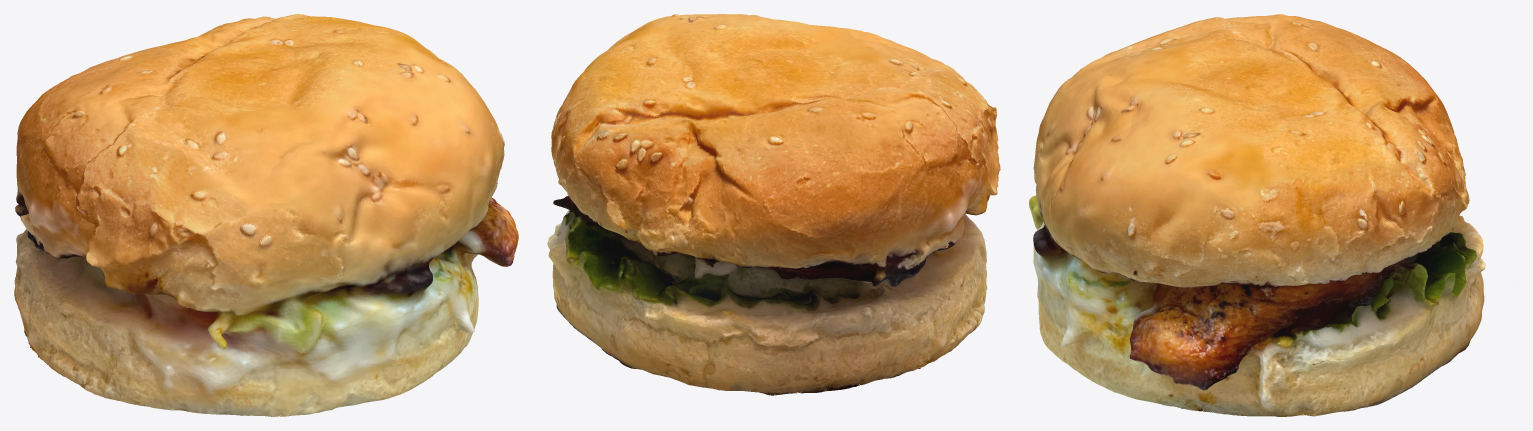
The model's file is Burger.glb.
The picture shows the model from 3 angles, left to right: view 1: azimuth 30°, elevation 25°; view 2: azimuth 150°, elevation 25°; view 3: azimuth 270°, elevation 25°; orthographic projection. The views are drawn at different scales.
Visible parts, largest first — view 1: Node #0; view 2: Node #0; view 3: Node #0.
Part boxes in pixels (x1=…): Node #0: x1=14, y1=14, x2=518, y2=416; Node #0: x1=547, y1=14, x2=1000, y2=395; Node #0: x1=1029, y1=14, x2=1485, y2=416.
Bounding box in the file's own units: 0.1032 × 0.0585 × 0.1023.
Materials: 1 (1 with a texture image).
